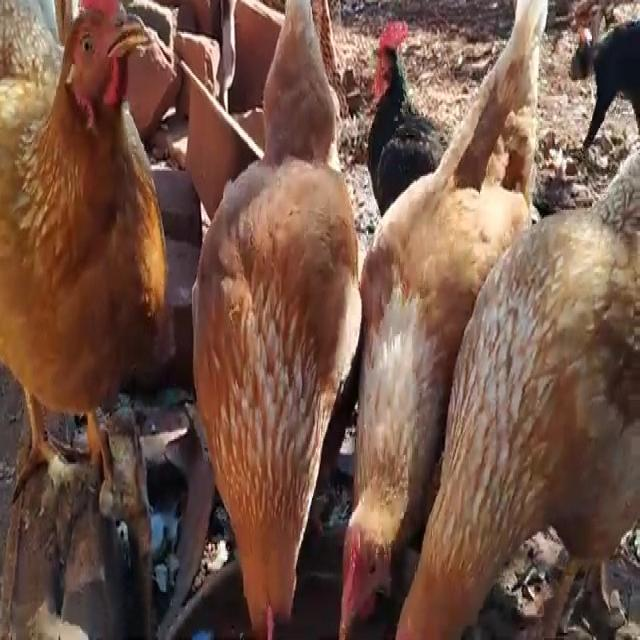drinking: (321, 35, 521, 640), (393, 185, 640, 640), (193, 0, 359, 624)
